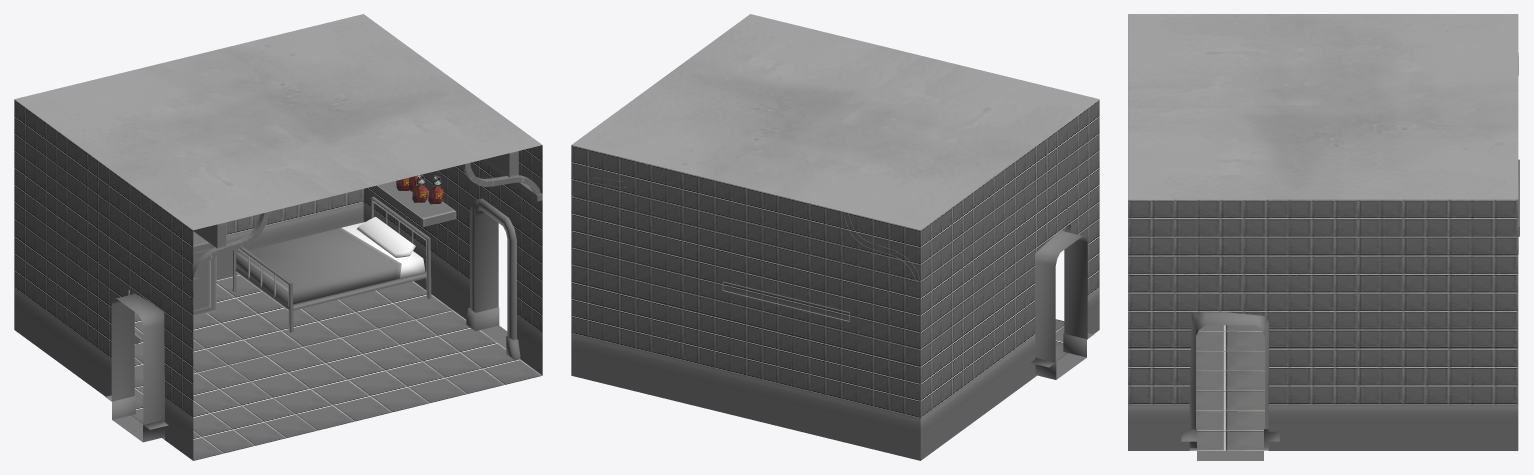
The model's file is MSH_Med_room_L1_R1_optimized.fbx.
3 renders of one model, left to right at view 1: azimuth 30°, elevation 25°; view 2: azimuth 150°, elevation 25°; view 3: azimuth 270°, elevation 25°, orthographic. The views are drawn at different scales.
Parts seen in each view (by area): view 1: lightmap1, lightmap-1; view 2: lightmap1, lightmap-1; view 3: lightmap1, lightmap-1.
Part boxes in pixels (<box>): lightmap1: <box>14,14,542,460</box>; lightmap-1: <box>111,209,507,442</box>; lightmap1: <box>571,14,1099,460</box>; lightmap-1: <box>1035,231,1087,379</box>; lightmap1: <box>1128,14,1519,450</box>; lightmap-1: <box>1196,313,1264,460</box>.
Bounding box in the file's own units: 10.3 × 5.94 × 8.29.
5 materials, 5 textured.
